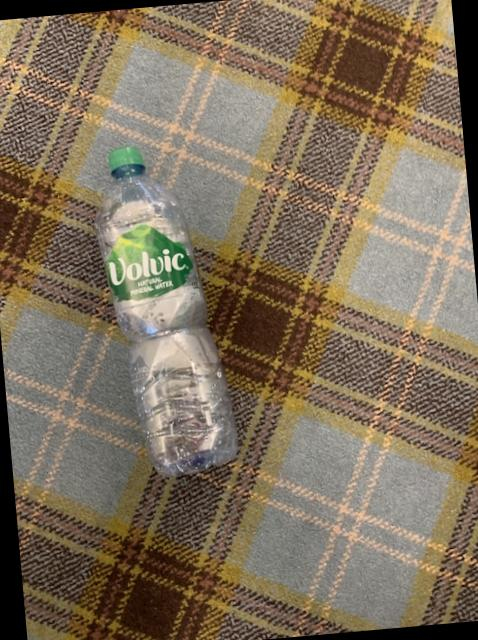plastic: (94, 146, 236, 474)
